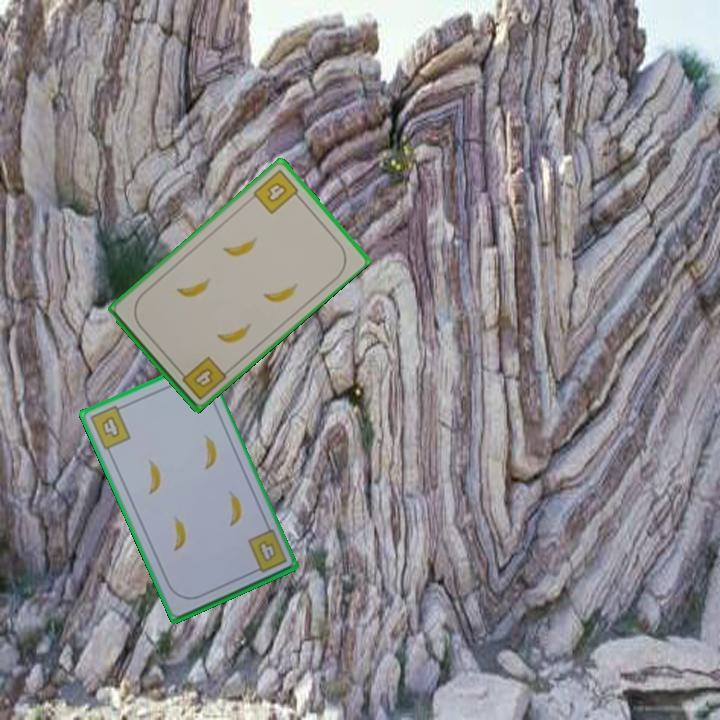4b: (249, 166, 305, 217), (174, 352, 229, 403), (86, 401, 133, 453), (244, 526, 290, 577)
